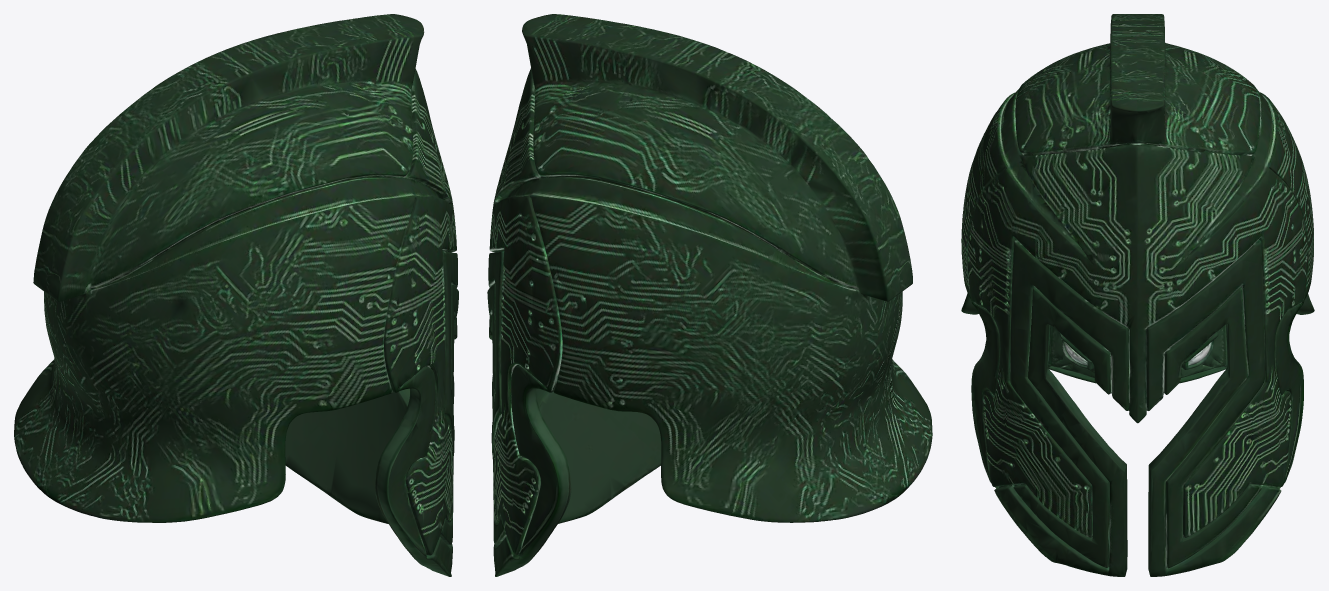
File: helmet-tripo.glb
3 renders of one model, left to right at view 1: azimuth 30°, elevation 25°; view 2: azimuth 150°, elevation 25°; view 3: azimuth 270°, elevation 25°, orthographic. The views are drawn at different scales.
Parts seen in each view (by area): view 1: tripo_node_5fb19264-28a1-4cf1-b361-8406a6da3453; view 2: tripo_node_5fb19264-28a1-4cf1-b361-8406a6da3453; view 3: tripo_node_5fb19264-28a1-4cf1-b361-8406a6da3453.
Boxes of the visible parts, x1=… form: tripo_node_5fb19264-28a1-4cf1-b361-8406a6da3453: x1=14, y1=14, x2=458, y2=576; tripo_node_5fb19264-28a1-4cf1-b361-8406a6da3453: x1=487, y1=14, x2=932, y2=576; tripo_node_5fb19264-28a1-4cf1-b361-8406a6da3453: x1=961, y1=14, x2=1314, y2=576.
Size of the model in its own units: 0.8064 by 0.9999 by 0.6843.
Materials: 1 (1 with a texture image).
